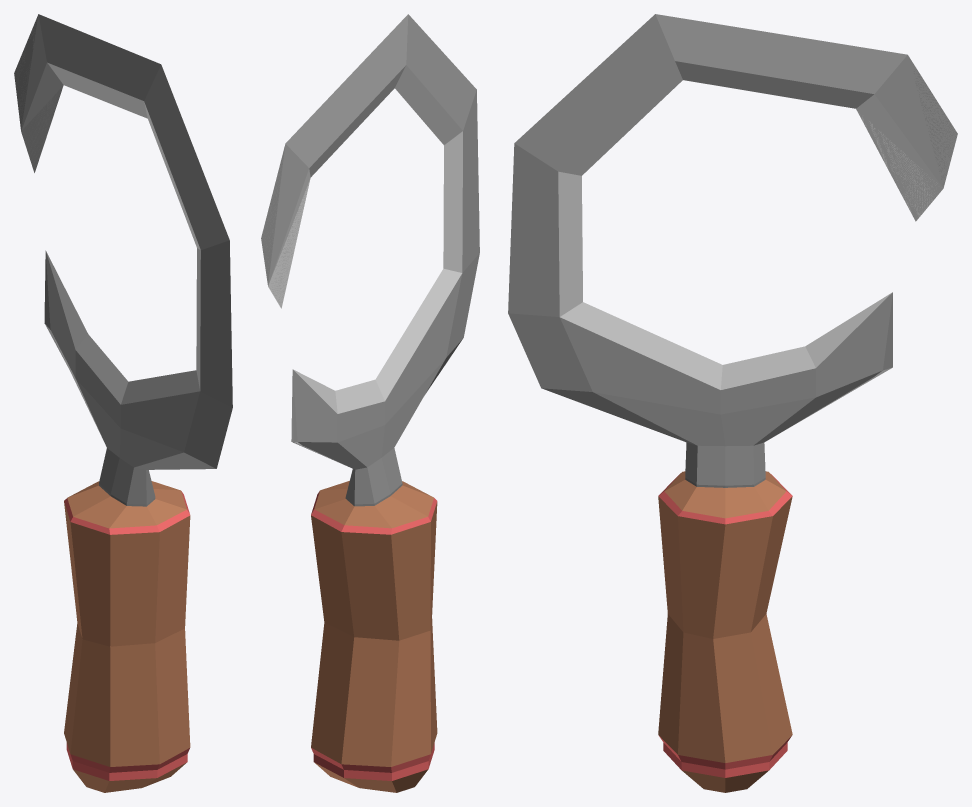
Rendered from IronSickle.fbx.
The picture shows the model from 3 angles, left to right: view 1: azimuth 30°, elevation 25°; view 2: azimuth 150°, elevation 25°; view 3: azimuth 270°, elevation 25°; orthographic projection. The views are drawn at different scales.
Visible parts, largest first — view 1: IronSickle; view 2: IronSickle; view 3: IronSickle.
Part boxes in pixels (x1=…): IronSickle: x1=14, y1=14, x2=232, y2=792; IronSickle: x1=261, y1=14, x2=479, y2=792; IronSickle: x1=508, y1=14, x2=957, y2=792.
Bounding box in the file's own units: 8.65 × 53.77 × 28.9.
1 material, 1 textured.
